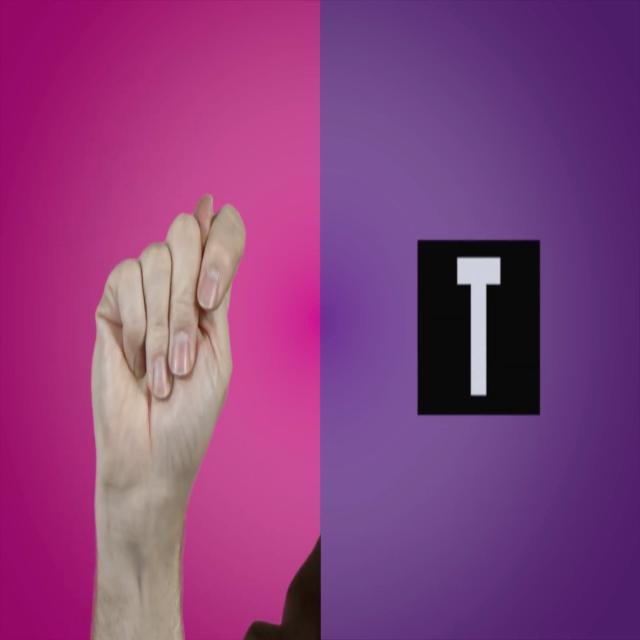T: (64, 160, 274, 640)
